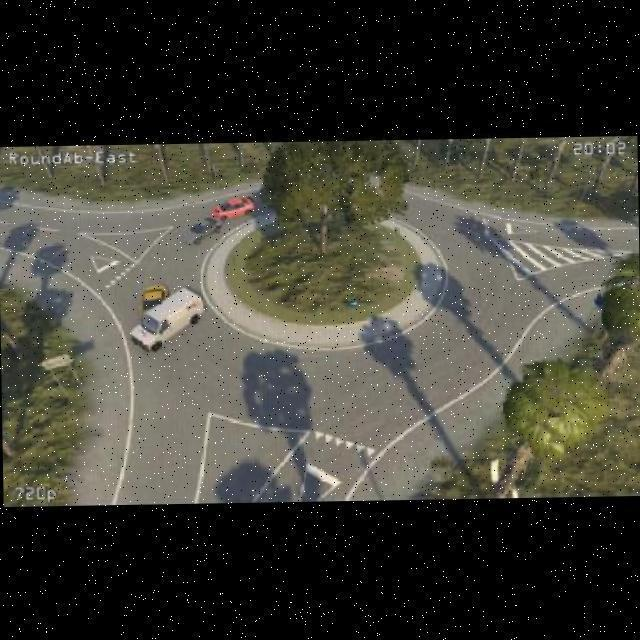accident: (130, 274, 165, 350)
